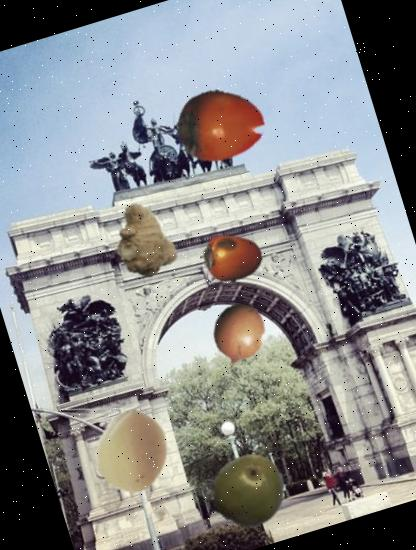Ginger: (100, 192, 194, 286)
Granadilla: (194, 292, 284, 382)
Kaki: (164, 67, 278, 181), (192, 219, 272, 298)
Maracuja: (201, 444, 295, 538)
Peach: (82, 400, 183, 501)
